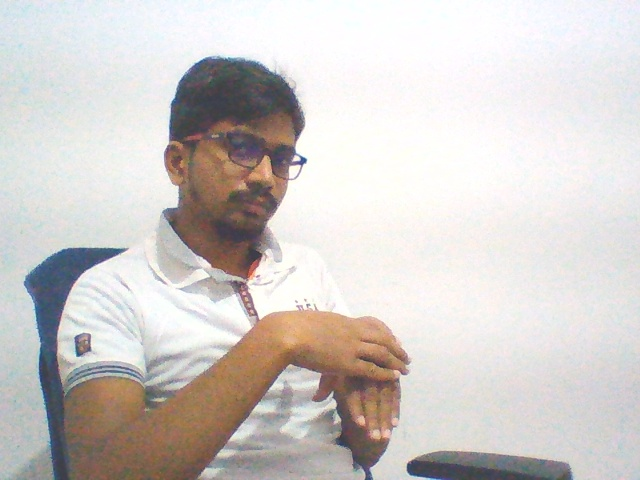pineapple: (244, 289, 419, 452)
